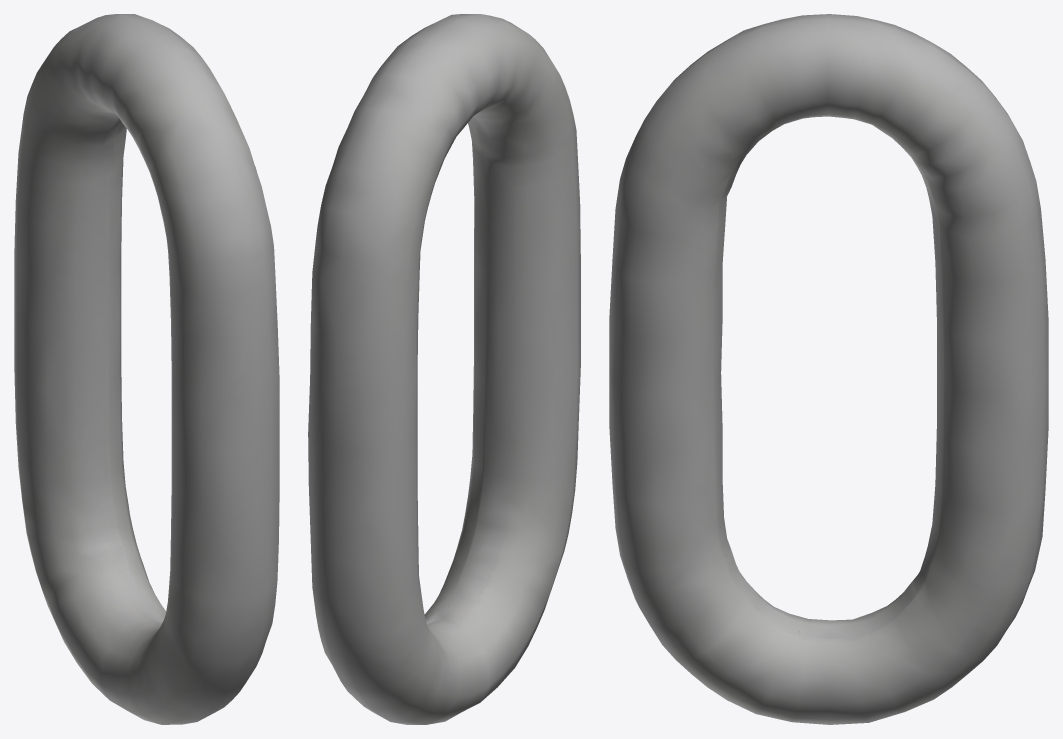
Rendered from chain-link.glb.
The picture shows the model from 3 angles, left to right: view 1: azimuth 30°, elevation 25°; view 2: azimuth 150°, elevation 25°; view 3: azimuth 270°, elevation 25°; orthographic projection. The views are drawn at different scales.
Parts seen in each view (by area): view 1: tripo_node_d606ef02-2857-402e-8461-1774cc214bcb; view 2: tripo_node_d606ef02-2857-402e-8461-1774cc214bcb; view 3: tripo_node_d606ef02-2857-402e-8461-1774cc214bcb.
Boxes of the visible parts, bbox=[...] form: tripo_node_d606ef02-2857-402e-8461-1774cc214bcb: bbox=[14, 14, 279, 724]; tripo_node_d606ef02-2857-402e-8461-1774cc214bcb: bbox=[308, 14, 580, 724]; tripo_node_d606ef02-2857-402e-8461-1774cc214bcb: bbox=[609, 14, 1048, 724].
Size of the model in its own units: 0.022 by 0.15 by 0.0854.
1 material, 1 textured.
